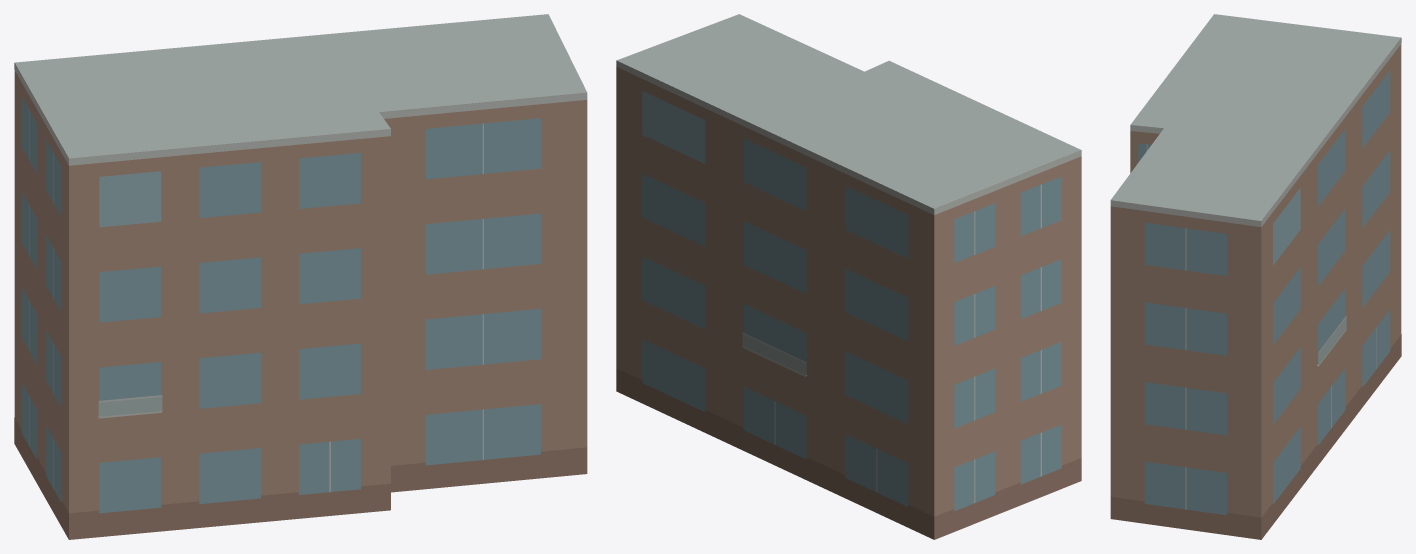
The model's file is survey-upis-32557143.glb.
The picture shows the model from 3 angles, left to right: view 1: azimuth 30°, elevation 25°; view 2: azimuth 150°, elevation 25°; view 3: azimuth 270°, elevation 25°; orthographic projection. The views are drawn at different scales.
Visible parts, largest first — view 1: survey-upis-32557143.tmp; view 2: survey-upis-32557143.tmp; view 3: survey-upis-32557143.tmp.
Part boxes in pixels (x1,y1,x2,y2): survey-upis-32557143.tmp: [14, 14, 587, 539]; survey-upis-32557143.tmp: [616, 14, 1081, 539]; survey-upis-32557143.tmp: [1110, 14, 1401, 539].
Size of the model in its own units: 17.98 by 12.9 by 10.68.
